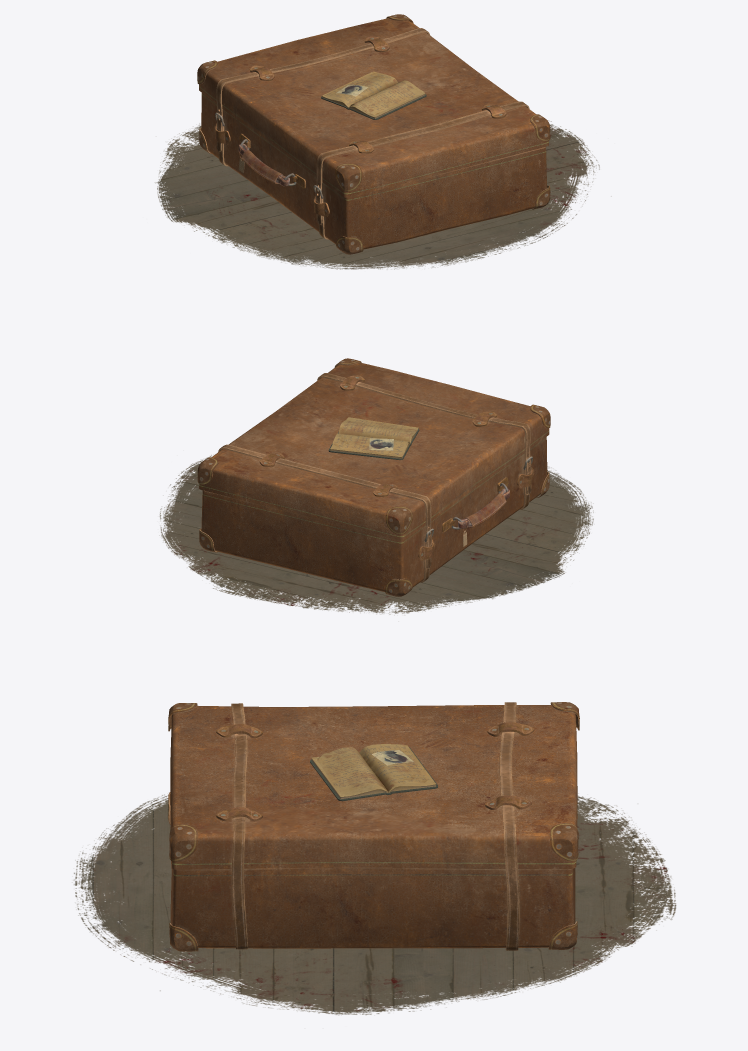
Rendered from vintage_suitcase.glb.
3 views of the same model, one above another, from view 1: azimuth 30°, elevation 25°; view 2: azimuth 150°, elevation 25°; view 3: azimuth 270°, elevation 25° (orthographic). The views are drawn at different scales.
Visible parts, largest first — view 1: Up_Low.001, Plane.011, Main_Low.001, Belt2_Low.001, Belt1_Low.001, Right_Paper_Low.002, Left_Paper_Low.002, Leather1_low.001, SmoothSide_Low.001, Main_Paper_Low.002; view 2: Up_Low.001, Plane.011, Main_Low.001, Belt1_Low.001, Belt2_Low.001, Right_Paper_Low.002, Left_Paper_Low.002, Leather4_Low.001, SmoothSide_Low.001; view 3: Up_Low.001, Plane.011, Main_Low.001, Belt1_Low.001, Belt2_Low.001, Right_Paper_Low.002, Left_Paper_Low.002, Main_Paper_Low.002, Leather3_Low.001, Leather2_Low.001, Leather6_Low.001, Leather7_Low.001.
Part boxes in pixels (left/top/right/bottom): Up_Low.001: left=199, top=18, right=548, bottom=197; Plane.011: left=155, top=120, right=611, bottom=269; Main_Low.001: left=201, top=93, right=547, bottom=249; Belt2_Low.001: left=315, top=101, right=529, bottom=239; Belt1_Low.001: left=216, top=28, right=430, bottom=166; Right_Paper_Low.002: left=349, top=80, right=424, bottom=114; Left_Paper_Low.002: left=324, top=71, right=397, bottom=106; Leather1_low.001: left=335, top=163, right=362, bottom=191; SmoothSide_Low.001: left=241, top=149, right=283, bottom=183; Main_Paper_Low.002: left=321, top=72, right=425, bottom=118; Up_Low.001: left=199, top=362, right=549, bottom=540; Plane.011: left=159, top=455, right=593, bottom=614; Main_Low.001: left=201, top=437, right=547, bottom=591; Belt1_Low.001: left=218, top=444, right=431, bottom=582; Belt2_Low.001: left=317, top=373, right=531, bottom=509; Right_Paper_Low.002: left=338, top=417, right=416, bottom=442; Left_Paper_Low.002: left=332, top=433, right=409, bottom=455; Leather4_Low.001: left=385, top=506, right=412, bottom=534; SmoothSide_Low.001: left=465, top=493, right=506, bottom=527; Up_Low.001: left=170, top=705, right=577, bottom=869; Plane.011: left=73, top=793, right=676, bottom=1015; Main_Low.001: left=170, top=827, right=575, bottom=948; Belt1_Low.001: left=499, top=702, right=519, bottom=950; Belt2_Low.001: left=231, top=703, right=247, bottom=949; Right_Paper_Low.002: left=317, top=747, right=388, bottom=793; Left_Paper_Low.002: left=359, top=744, right=428, bottom=791; Main_Paper_Low.002: left=311, top=745, right=436, bottom=798; Leather3_Low.001: left=549, top=823, right=578, bottom=861; Leather2_Low.001: left=169, top=824, right=198, bottom=862; Leather6_Low.001: left=169, top=923, right=198, bottom=951; Leather7_Low.001: left=548, top=921, right=577, bottom=949.
Size of the model in its own units: 1.53 by 0.2883 by 1.53.
4 materials, 4 textured.
